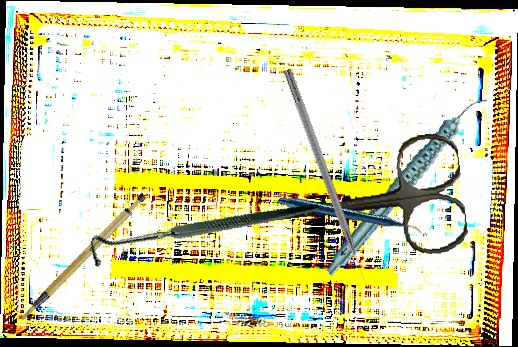Handpiece: (295, 92, 518, 278), (275, 142, 424, 293)
Hook Surgical: (83, 140, 321, 328), (281, 67, 371, 289)
Iris Scissors: (240, 130, 471, 278)
Scalpel Handle: (3, 190, 161, 322)
